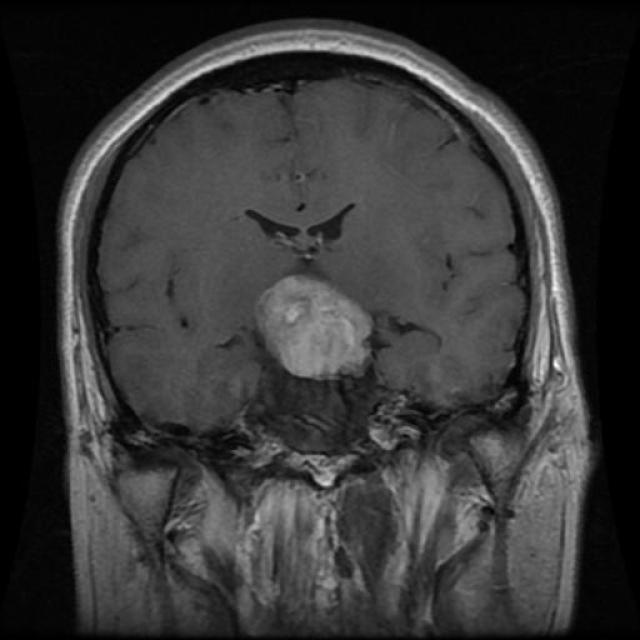Pituitary: (258, 272, 372, 380)
